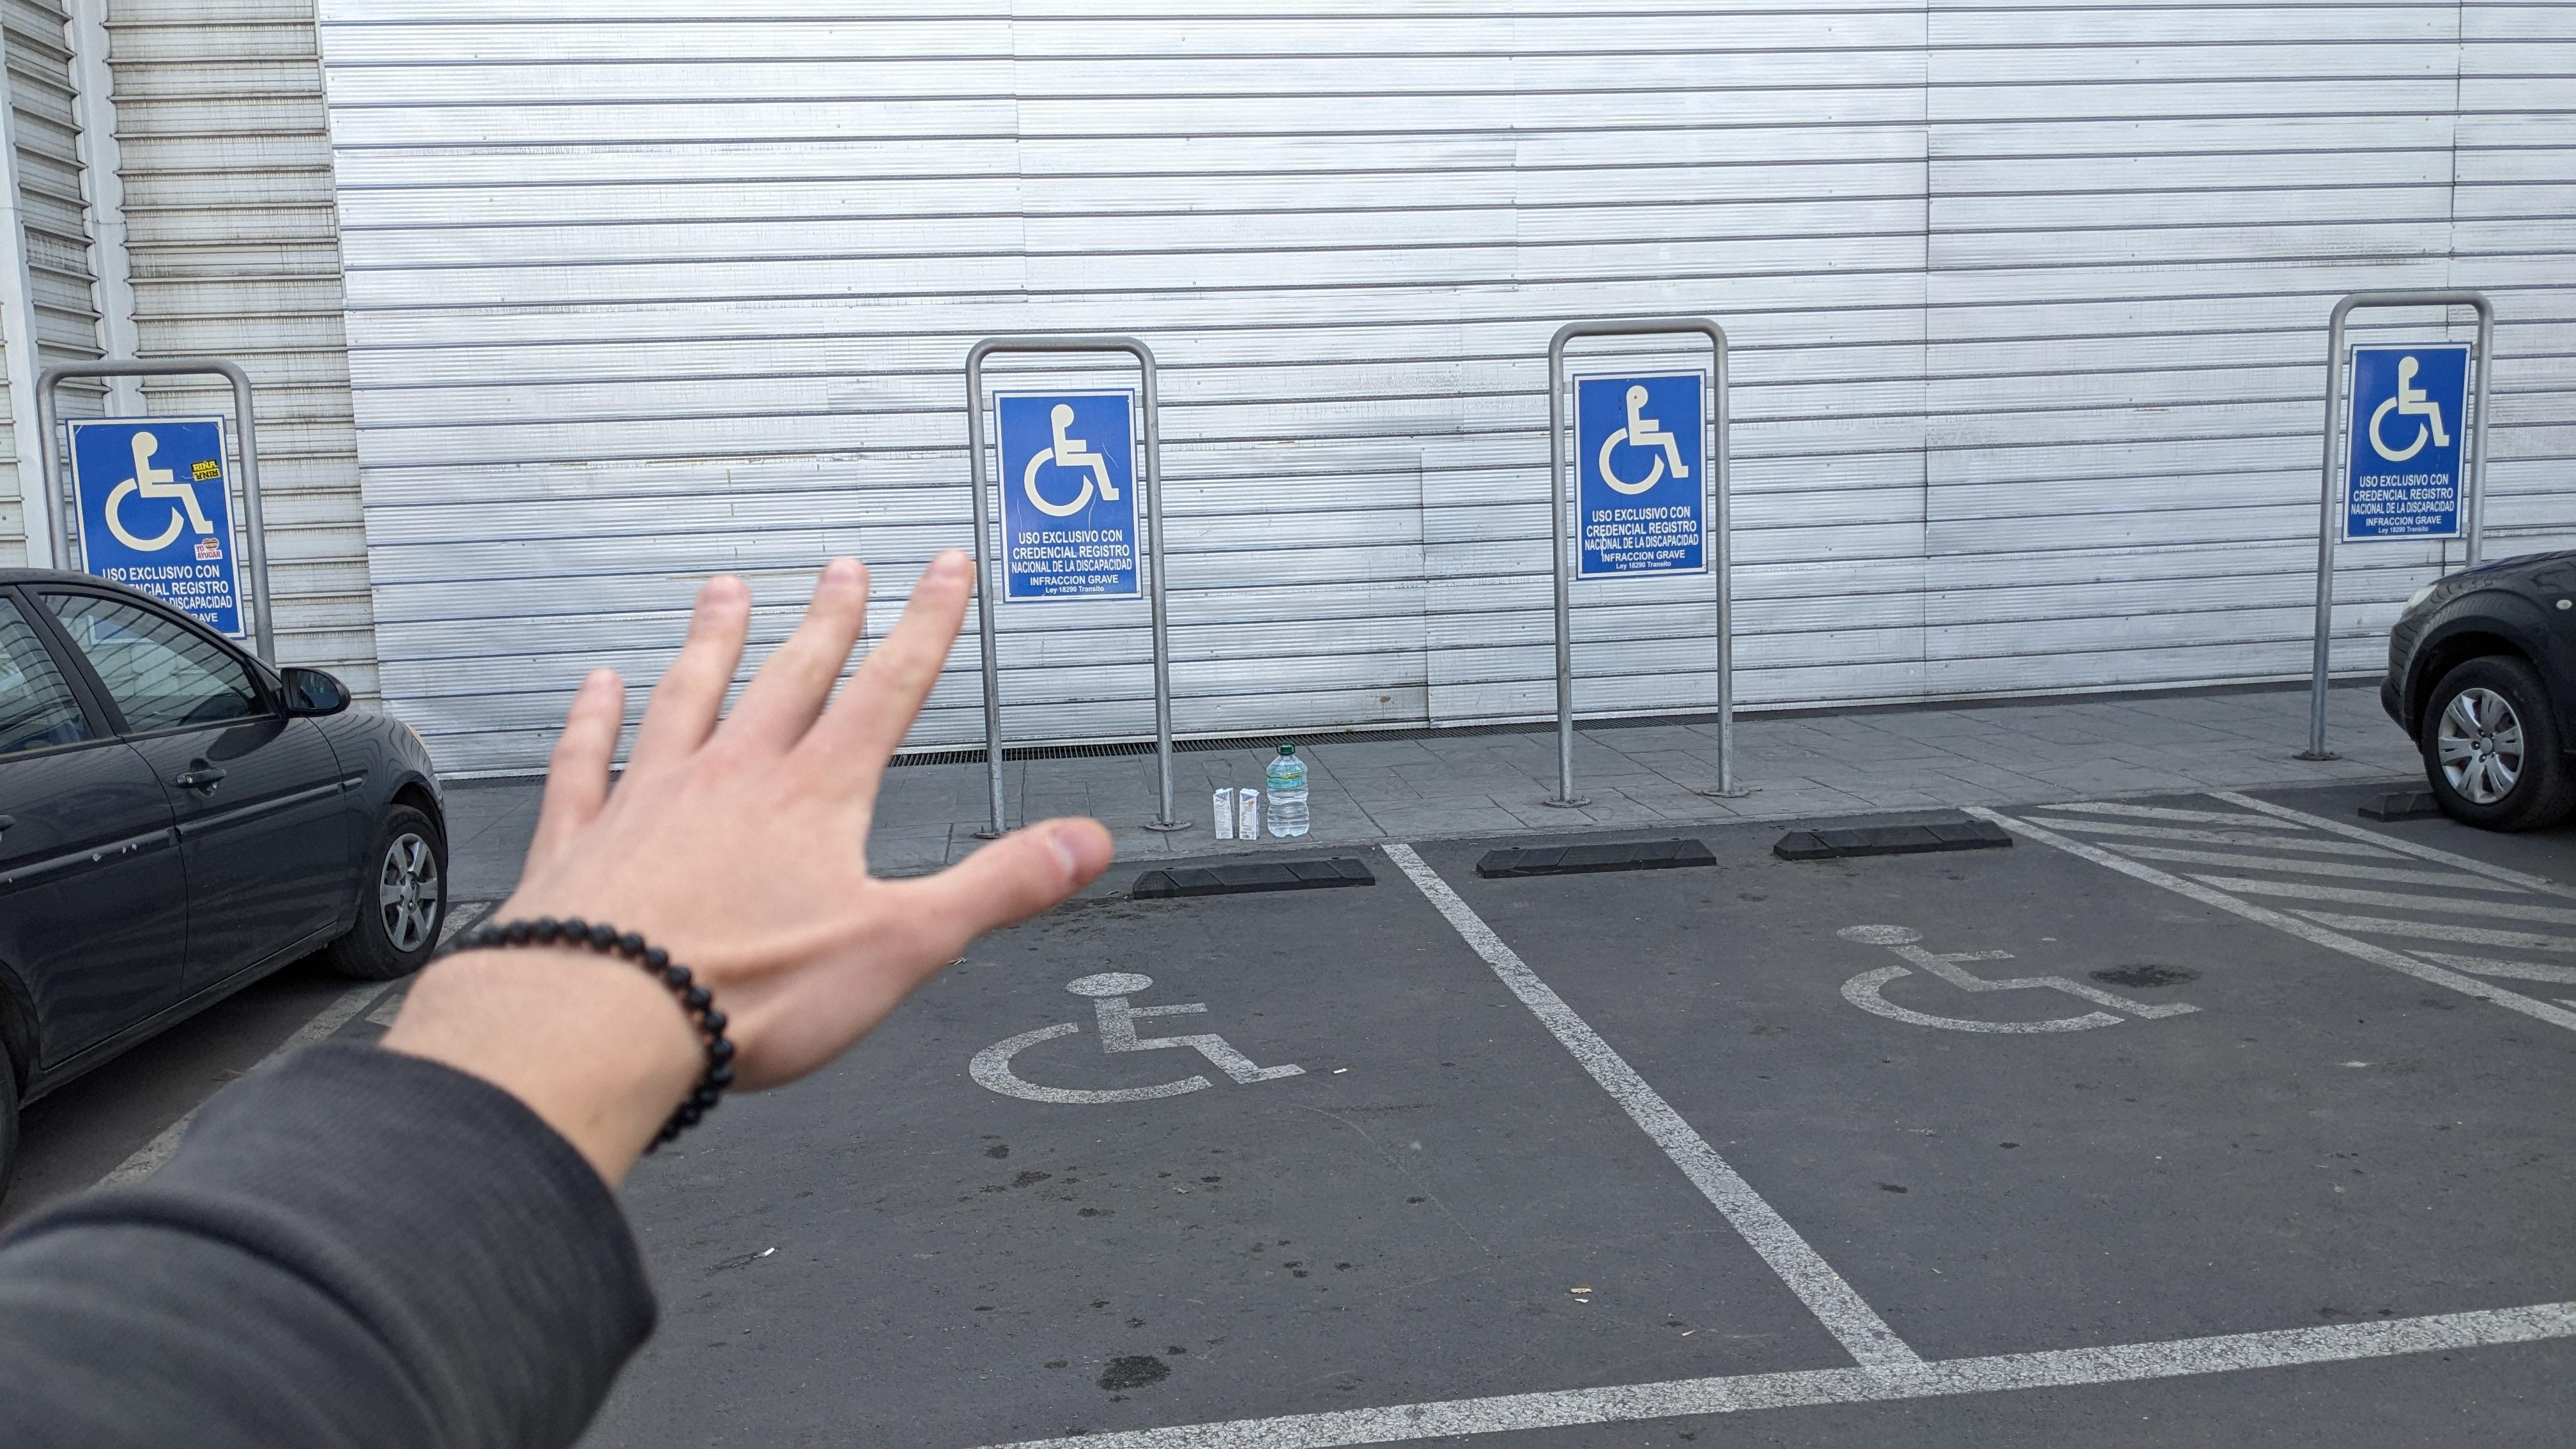handicapped symbol: (1813, 911, 2204, 1042), (966, 961, 1304, 1109), (92, 428, 218, 556), (1023, 400, 1120, 525), (1596, 384, 1691, 501), (2367, 356, 2452, 464)
